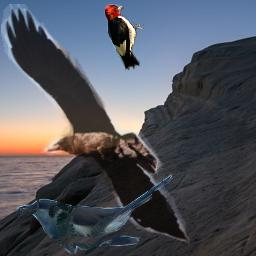Crow: (1, 4, 190, 245)
Cuckoo: (16, 174, 177, 254)
Woodpecker: (104, 4, 145, 71)
